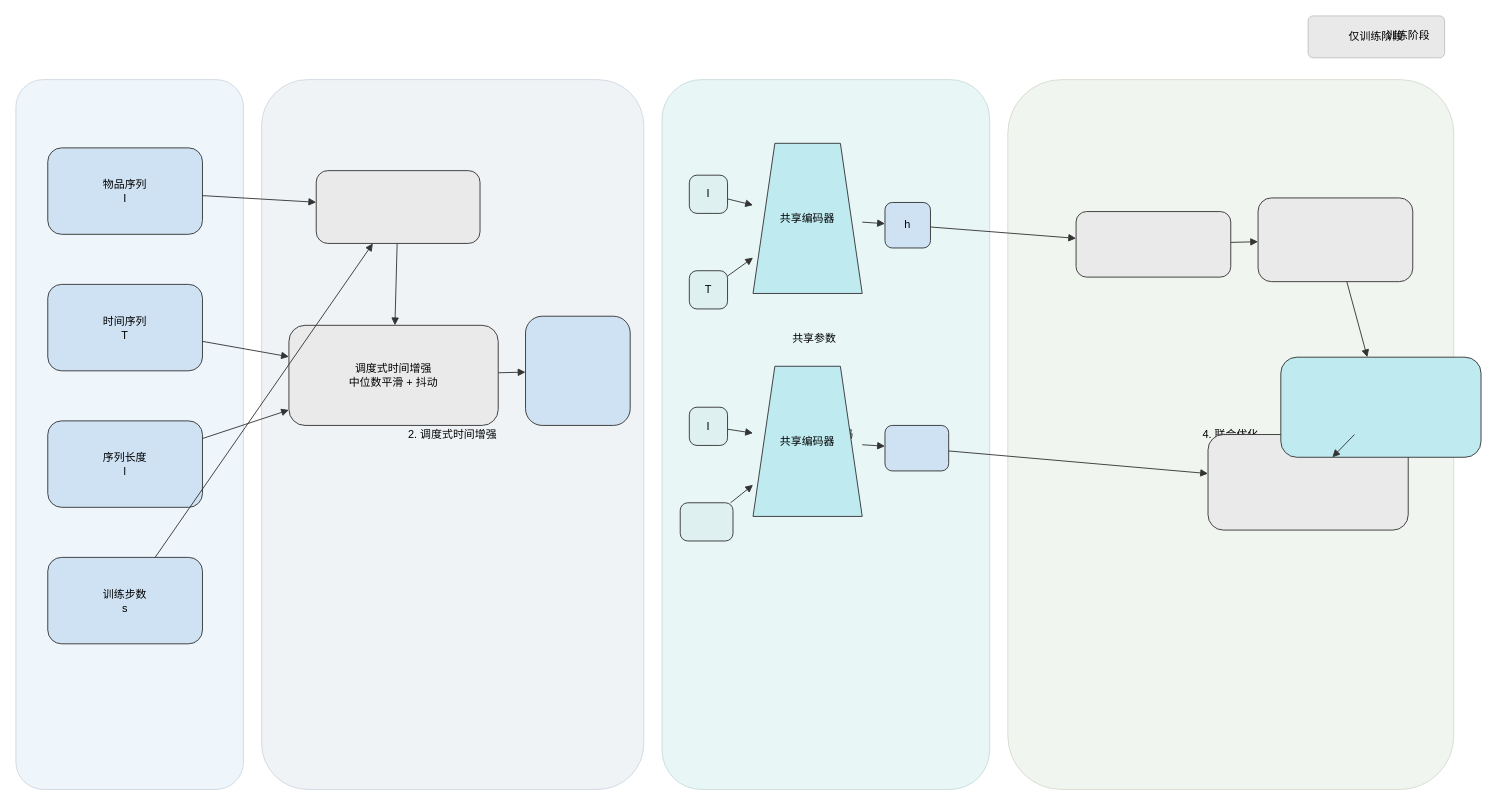
The diagram is 1497 pixels wide and 805 high, and some of its shapes have lost their labels. Each missing label, with the centre of its shape:
h_aug: point 916,448
T_aug: point 706,521
warmup + ramp 调度器: point 397,206
下一物品预测: point 1153,244
主损失 L_CE: point 1335,239
增强时间序列 T_aug: point 577,370
对比损失 L_CL 仅对选中样本: point 1307,482
联合损失 L = L_CE + λ_CL L_CL: point 1380,406
